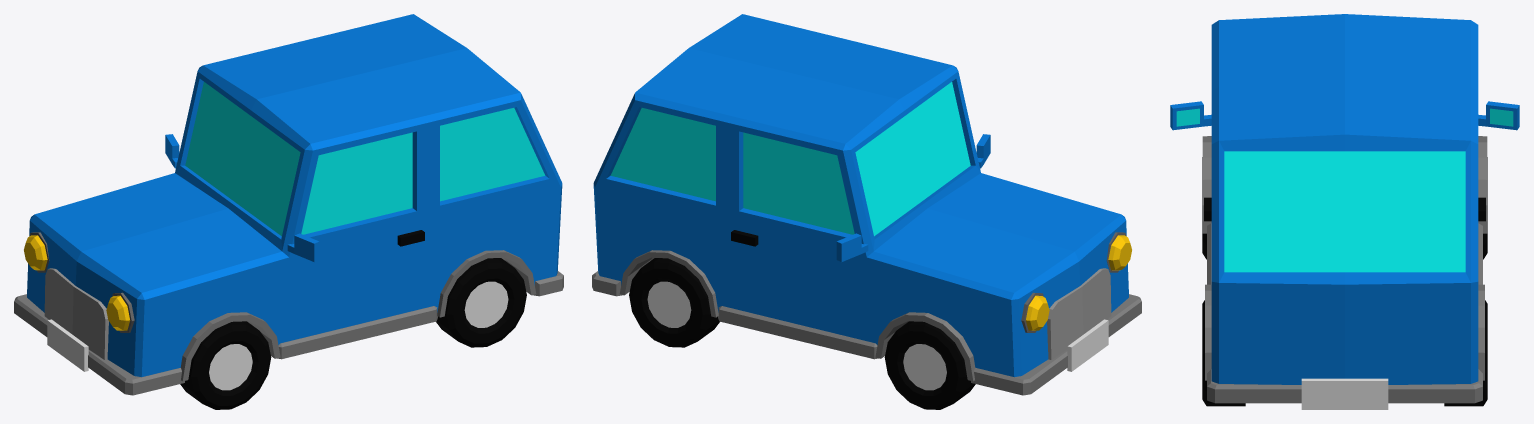
The model's file is Car.fbx.
The picture shows the model from 3 angles, left to right: view 1: azimuth 30°, elevation 25°; view 2: azimuth 150°, elevation 25°; view 3: azimuth 270°, elevation 25°; orthographic projection. The views are drawn at different scales.
Parts seen in each view (by area): view 1: Car; view 2: Car; view 3: Car.
Boxes of the visible parts, x1,y1,x2,y2 form: Car: (14, 14, 563, 409); Car: (592, 14, 1141, 409); Car: (1170, 14, 1519, 409).
Size of the model in its own units: 155 by 81.49 by 89.25.
